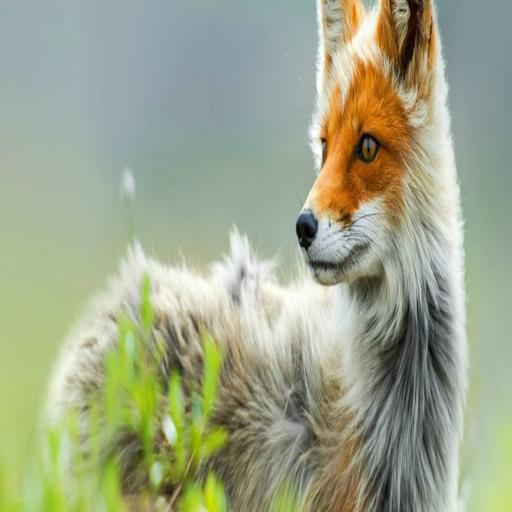Fox: (41, 0, 482, 508)
